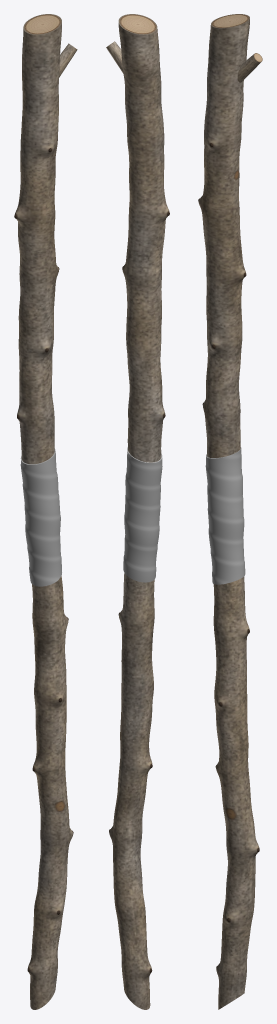
The model's file is stick.glb.
3 renders of one model, left to right at view 1: azimuth 30°, elevation 25°; view 2: azimuth 150°, elevation 25°; view 3: azimuth 330°, elevation 25°, orthographic.
Parts seen in each view (by area): view 1: TKA_Stick_Branch, TKA_Stick_Tape; view 2: TKA_Stick_Branch, TKA_Stick_Tape; view 3: TKA_Stick_Branch, TKA_Stick_Tape.
Part boxes in pixels (x1,y1,x2,y2): TKA_Stick_Branch: [14, 14, 77, 1009]; TKA_Stick_Tape: [20, 448, 61, 586]; TKA_Stick_Branch: [106, 14, 169, 1009]; TKA_Stick_Tape: [123, 447, 162, 582]; TKA_Stick_Branch: [198, 14, 262, 1009]; TKA_Stick_Tape: [205, 447, 245, 584].
Bounding box in the file's own units: 0.0596 × 0.9 × 0.0397.
4 materials, 2 textured.
